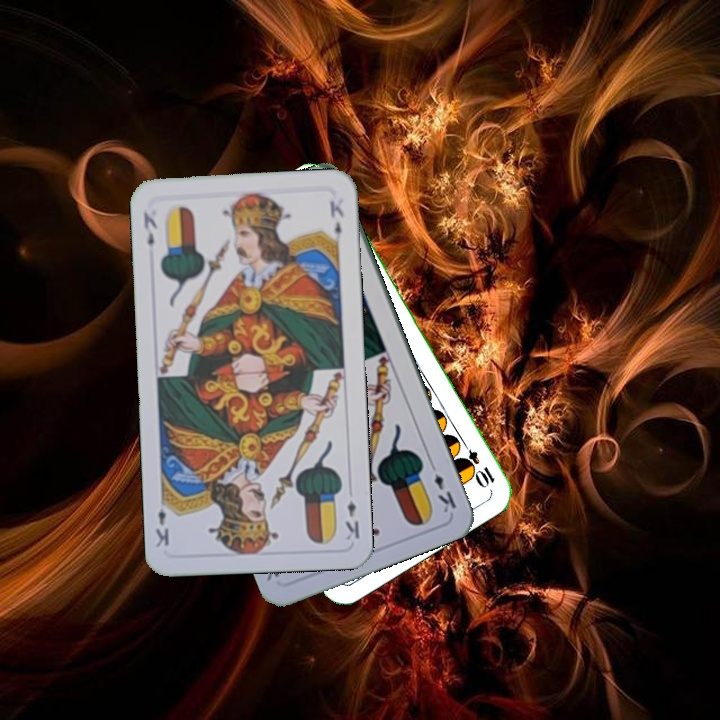E10: (455, 436, 497, 490)
EK: (425, 458, 459, 516), (341, 496, 362, 543), (139, 208, 160, 249)
